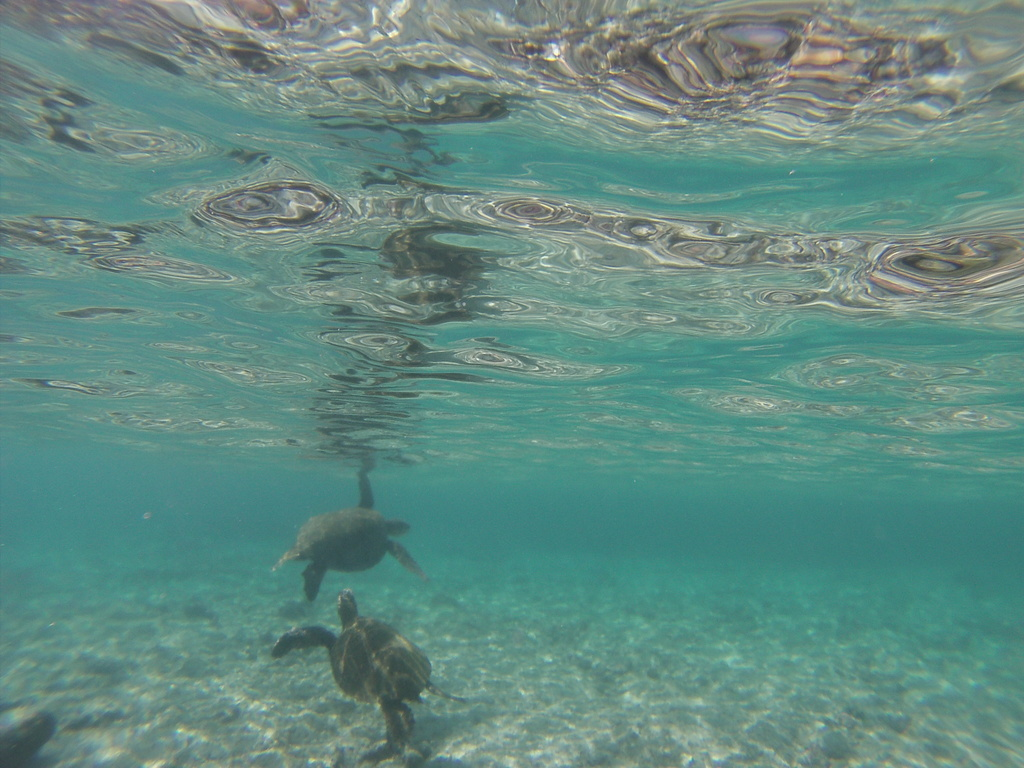Sea turtles: (265, 584, 467, 759), (261, 467, 425, 599)
